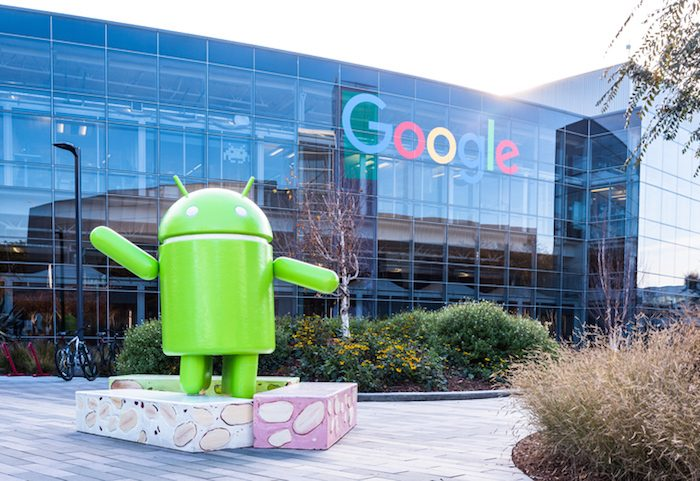google: (338, 86, 525, 177)
